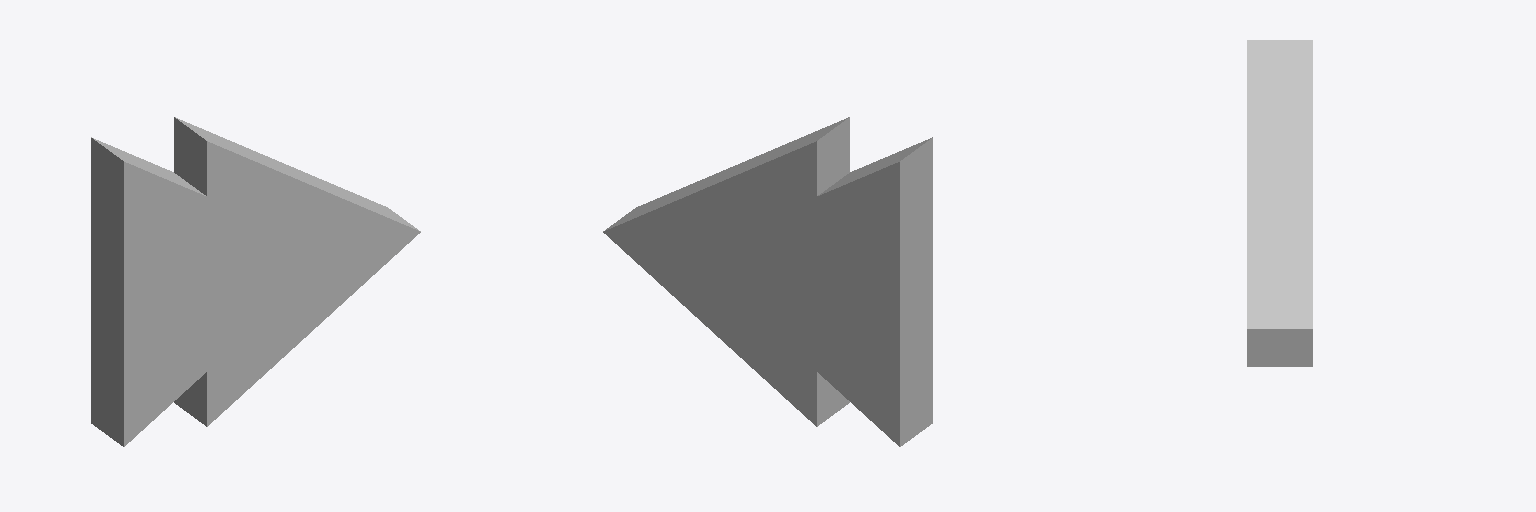
File: skipForwardButton.obj
3 views of the same model, side by side, from view 1: azimuth 30°, elevation 25°; view 2: azimuth 150°, elevation 25°; view 3: azimuth 270°, elevation 25° (orthographic).
Parts seen in each view (by area): view 1: pCube4, pCube3; view 2: pCube4, pCube3; view 3: pCube4, pCube3.
Boxes of the visible parts, x1=… form: pCube4: x1=174, y1=117, x2=420, y2=426; pCube3: x1=91, y1=137, x2=337, y2=446; pCube4: x1=603, y1=117, x2=849, y2=426; pCube3: x1=686, y1=137, x2=932, y2=446; pCube4: x1=1247, y1=81, x2=1312, y2=366; pCube3: x1=1247, y1=40, x2=1312, y2=80.
Bounding box in the file's own units: 0.8742 × 0.8036 × 0.1695.